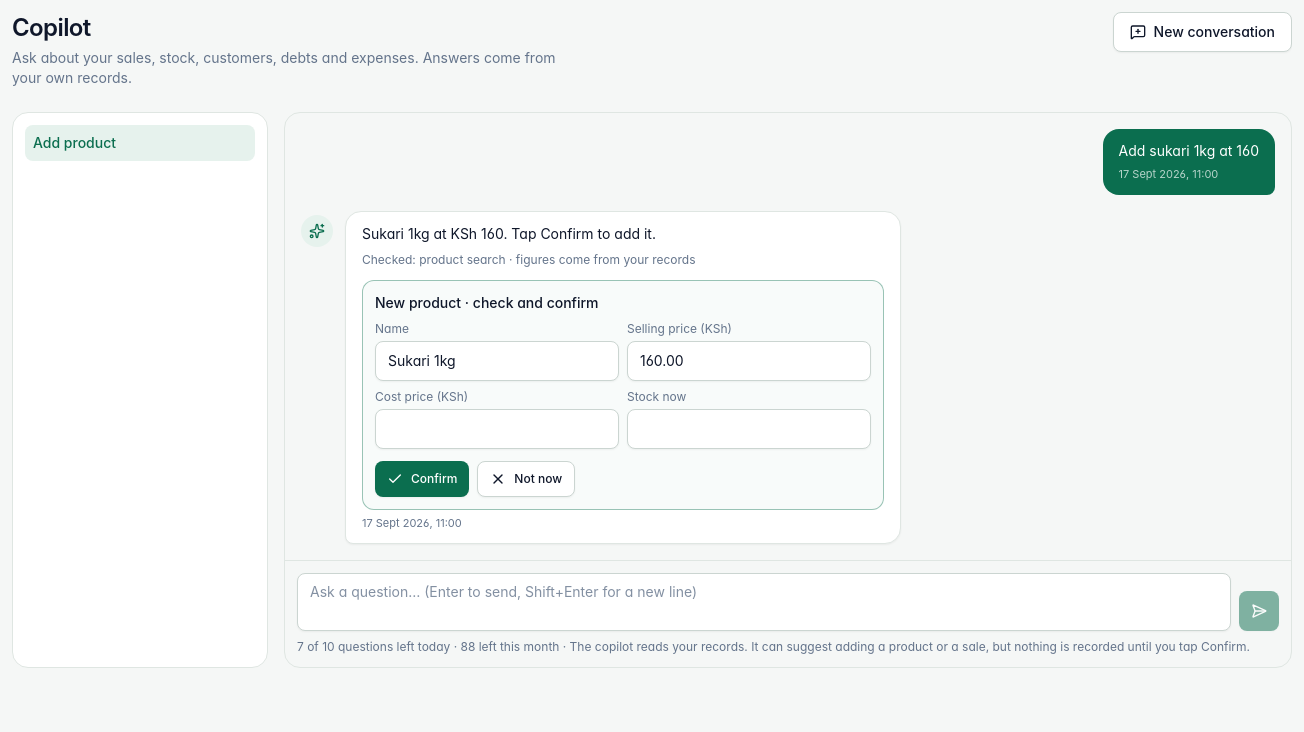
Test: ProposalCard › shows the backend error and keeps the card open when confirming fails
Click the button "Confirm" at (422, 479), box 375,461 -> 469,497
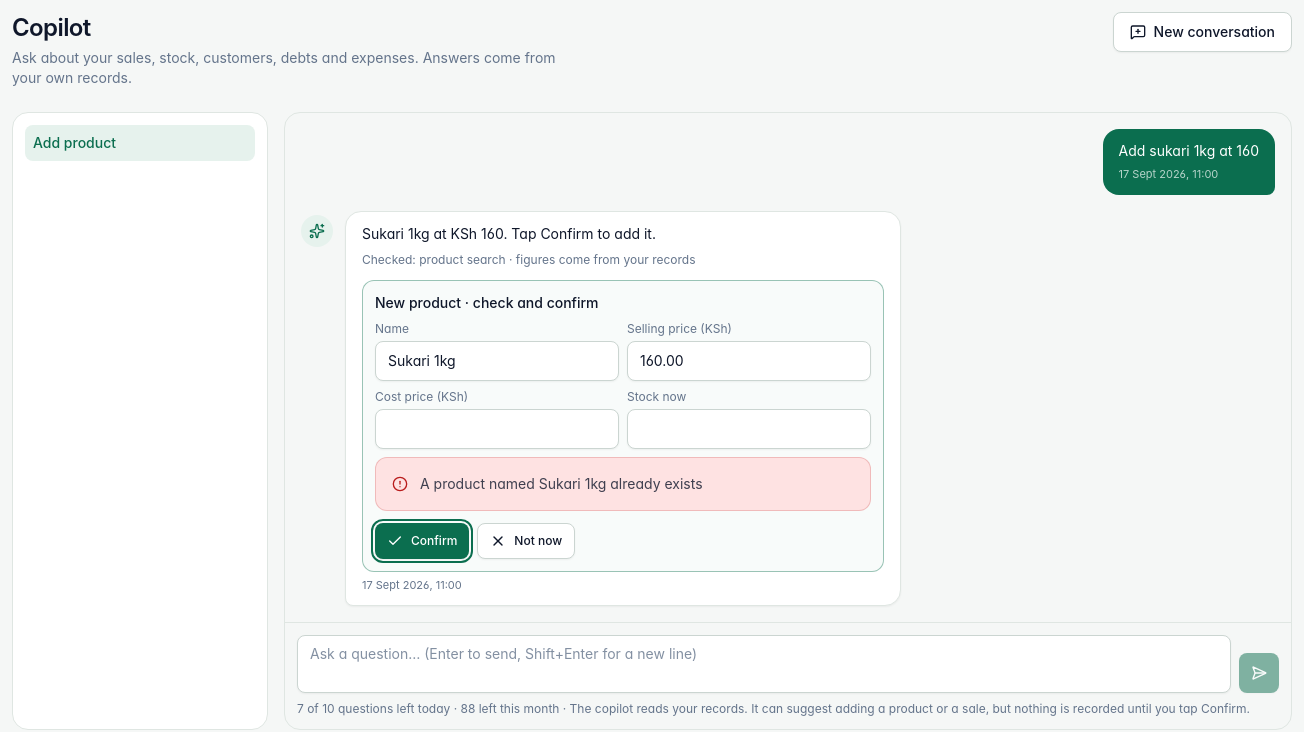
Check: the button "Confirm" is enabled, box 375,523 -> 469,559
Check: the message reads "A product named Sukari 1kg already exists", box 420,475 -> 703,492
